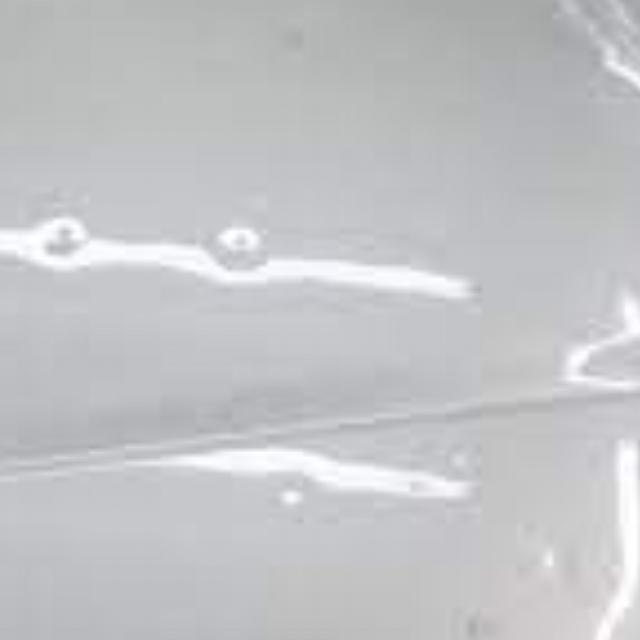dents: (206, 211, 280, 305), (29, 207, 102, 277), (522, 533, 594, 598), (268, 464, 330, 538), (266, 9, 324, 69), (443, 598, 498, 640)
